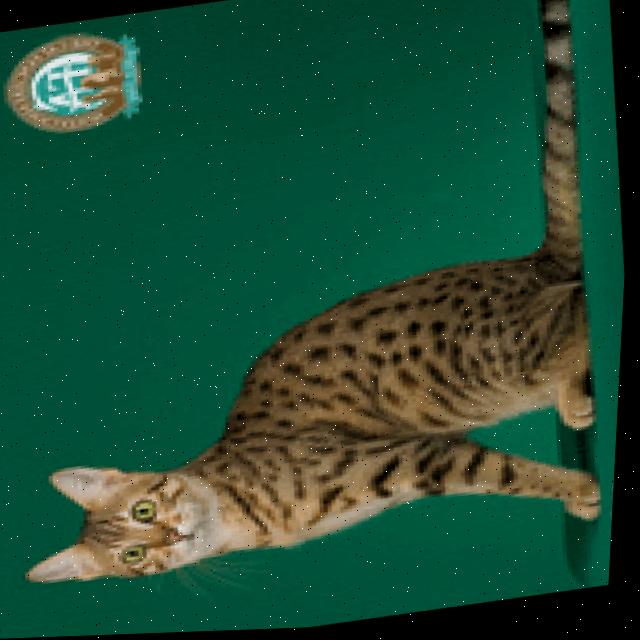Egyptian Mau: (0, 0, 631, 606)
